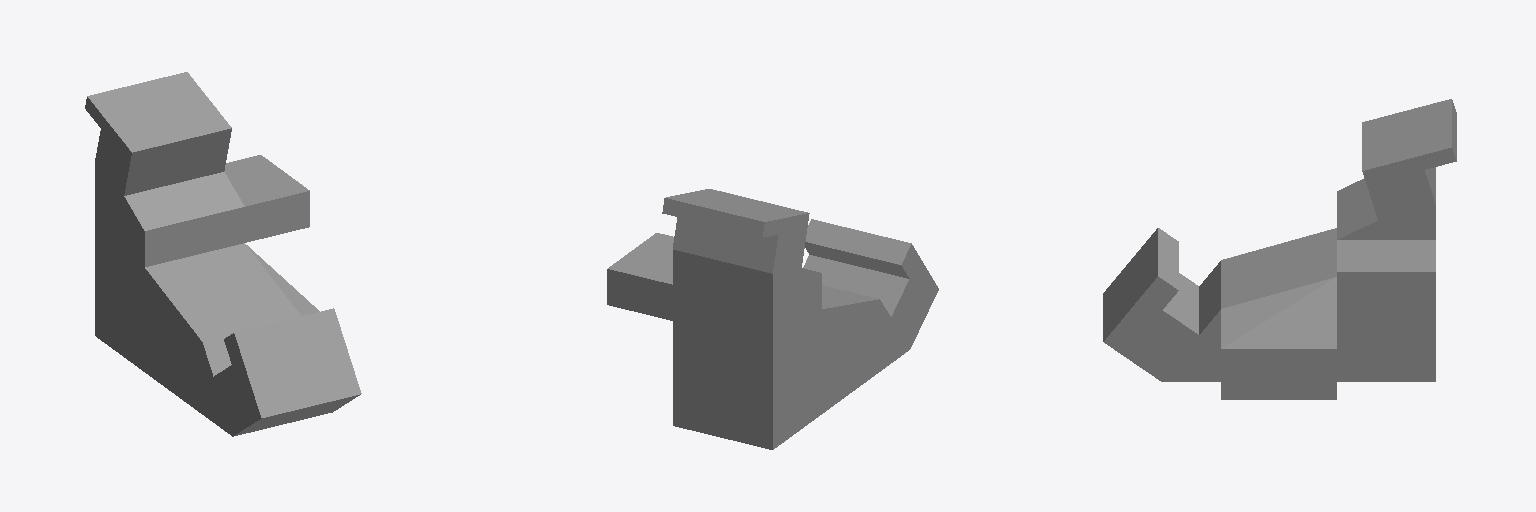
File: algo.obj
3 renders of one model, left to right at view 1: azimuth 30°, elevation 25°; view 2: azimuth 150°, elevation 25°; view 3: azimuth 270°, elevation 25°, orthographic.
Visible parts, largest first — view 1: Cube_Cube.001; view 2: Cube_Cube.001; view 3: Cube_Cube.001.
Boxes of the visible parts, <box> form: Cube_Cube.001: <box>85,72,361,436</box>; Cube_Cube.001: <box>607,189,938,449</box>; Cube_Cube.001: <box>1103,99,1456,399</box>.
Size of the model in its own units: 57.33 by 77.44 by 106.